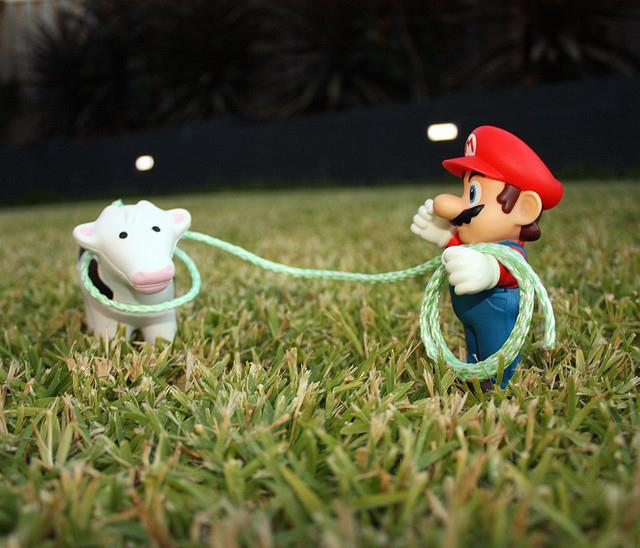mario: (413, 119, 563, 381)
